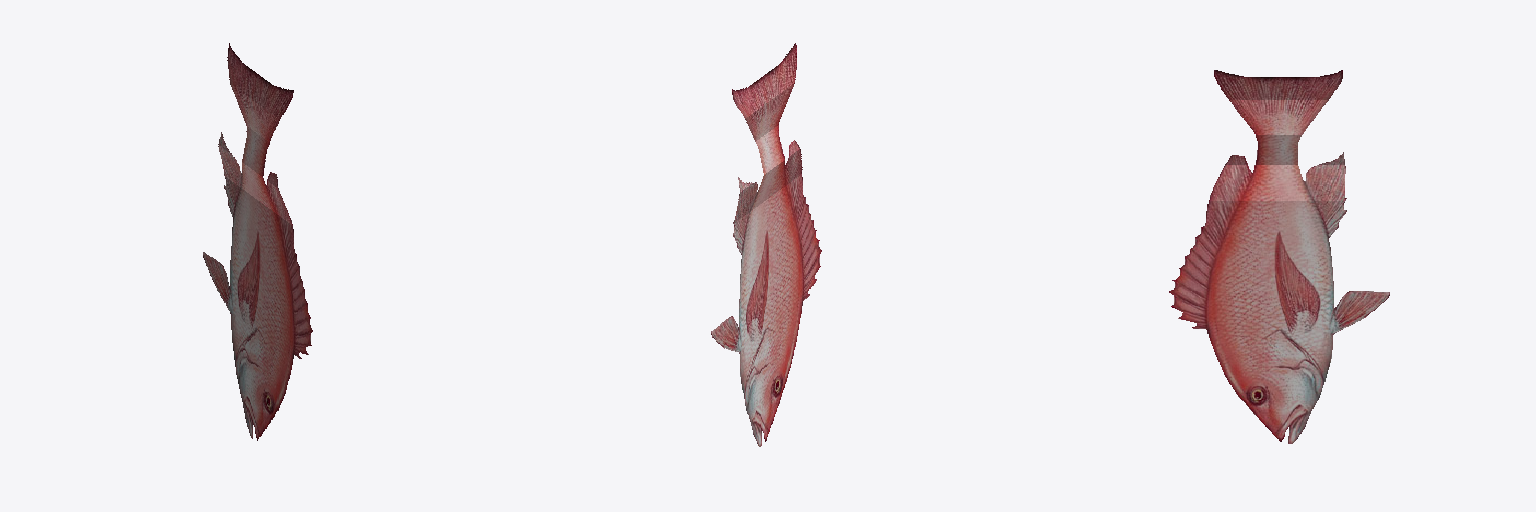
3 renders of one model, left to right at view 1: azimuth 30°, elevation 25°; view 2: azimuth 150°, elevation 25°; view 3: azimuth 270°, elevation 25°, orthographic.
Size of the model in its own units: 0.0548 by 1.99 by 1.06.
1 materials, 1 textured.